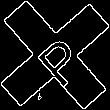P_NW: (25, 24, 85, 86)
